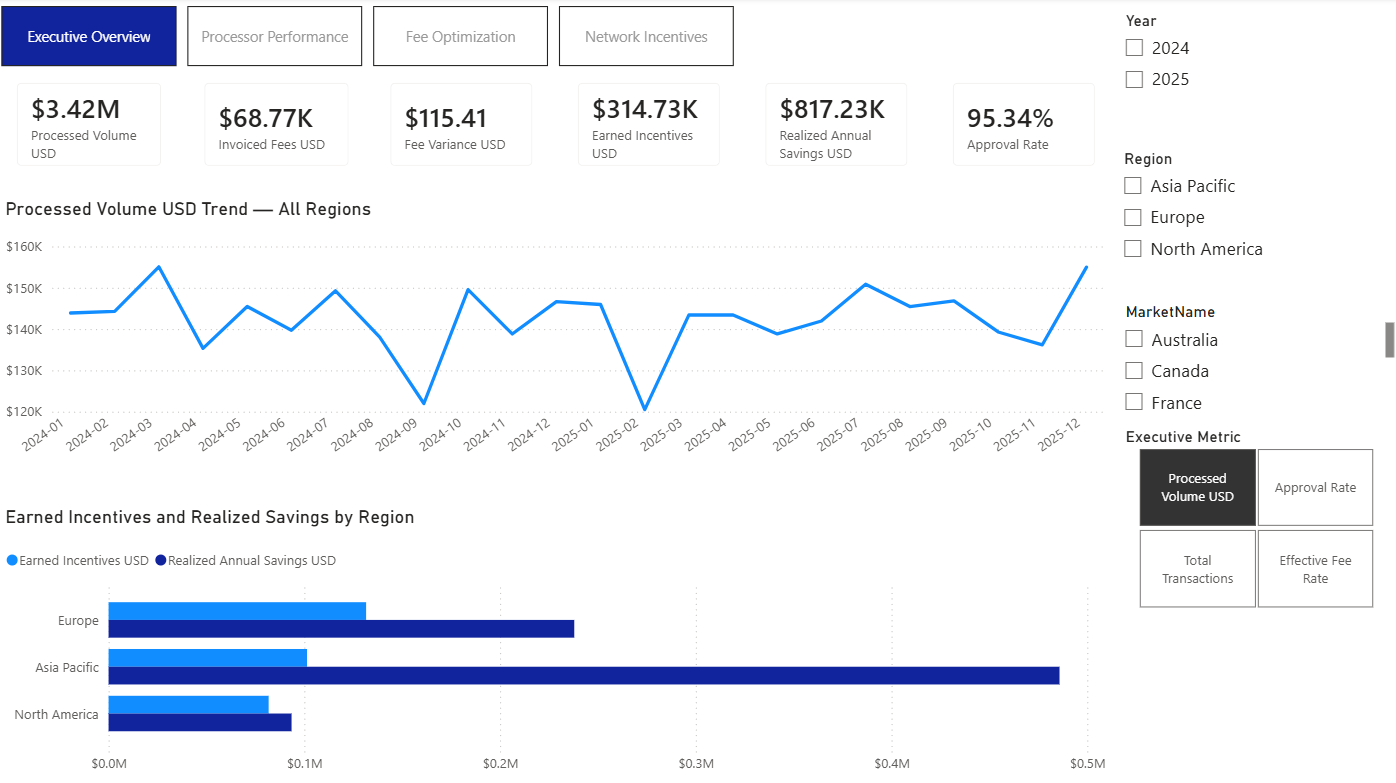

What the dashboard file says about the page in this screenshot:
{"tool":"powerbi","page":{"name":"Executive Overview","canvas":[1280,720],"ordinal":0},"visuals":[{"type":"cardVisual","fields":{"Data":["AllMeasures.Processed Volume USD"]},"box":[1.5,64.1,160.5,104.5],"z":0},{"type":"cardVisual","fields":{"Data":["AllMeasures.Approval Rate"]},"box":[857,64.1,159,104.5],"z":1000},{"type":"slicer","fields":{"Values":["DimDate.Year"]},"box":[1016.4,7.6,263.5,127],"z":2000},{"type":"slicer","fields":{"Values":["DimMarket.Region"]},"box":[1014.9,134.1,263.5,139.7],"z":3000},{"type":"slicer","fields":{"Values":["DimMarket.MarketName"]},"box":[1016.4,274.3,263.5,114.3],"z":4000},{"type":"lineChart","fields":{"Category":["DimDate.Year Month"],"Y":["AllMeasures.Processed Volume USD"]},"box":[0,184.4,1014.9,254.5],"z":5000},{"type":"cardVisual","fields":{"Data":["AllMeasures.Invoiced Fees USD"]},"box":[172.6,64.1,160.5,104.5],"z":6000},{"type":"cardVisual","fields":{"Data":["AllMeasures.Fee Variance USD"]},"box":[343.7,64.1,159,104.5],"z":7000},{"type":"cardVisual","fields":{"Data":["AllMeasures.Earned Incentives USD"]},"box":[514.8,64.1,159,104.5],"z":8000},{"type":"cardVisual","fields":{"Data":["AllMeasures.Realized Annual Savings USD"]},"box":[685.9,64.1,159,104.5],"z":9000},{"type":"clusteredBarChart","title":"Earned Incentives and Realized Savings by Region","fields":{"Category":["DimMarket.Region"],"Y":["AllMeasures.Earned Incentives USD","AllMeasures.Realized Annual Savings USD"]},"box":[0,464.8,1016.4,254.5],"z":10000},{"type":"slicer","fields":{"Values":["Executive Metric.Executive Metric"]},"box":[1016.4,388.6,263.6,176.8],"z":11000},{"type":"pageNavigator","box":[1.9,7.7,672.1,55.8],"z":12000}]}

Visuals, with their boxes in screenshot pixels (x1, y1, x2, y2), scaled from the page's 1280x720 canvas onto the 1396x783 screenshot:
cardVisual - AllMeasures.Processed Volume USD: 2:70:177:183
cardVisual - AllMeasures.Approval Rate: 935:70:1108:183
slicer - DimDate.Year: 1109:8:1395:146
slicer - DimMarket.Region: 1107:146:1394:298
slicer - DimMarket.MarketName: 1109:298:1395:423
lineChart - DimDate.Year Month x AllMeasures.Processed Volume USD: 0:201:1107:477
cardVisual - AllMeasures.Invoiced Fees USD: 188:70:363:183
cardVisual - AllMeasures.Fee Variance USD: 375:70:548:183
cardVisual - AllMeasures.Earned Incentives USD: 561:70:735:183
cardVisual - AllMeasures.Realized Annual Savings USD: 748:70:921:183
"Earned Incentives and Realized Savings by Region" clusteredBarChart: 0:505:1109:782
slicer - Executive Metric.Executive Metric: 1109:423:1395:615
pageNavigator: 2:8:735:69
